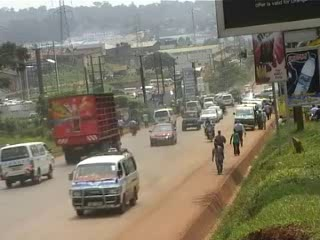Car: (147, 119, 179, 148), (179, 109, 203, 134), (199, 107, 219, 123), (207, 103, 226, 118)
Motorcycle: (200, 117, 217, 142), (127, 114, 140, 136)
